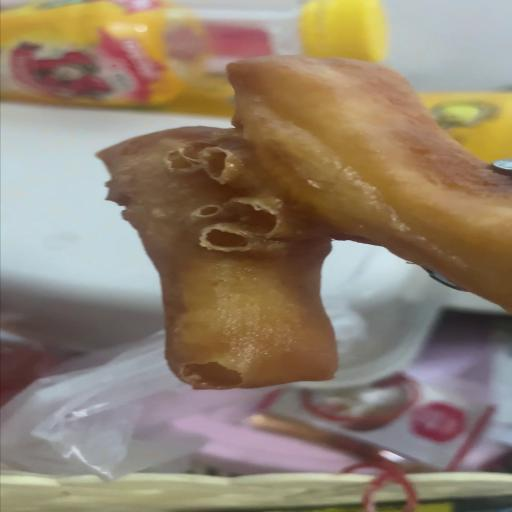street_burnt_defect: (98, 54, 512, 390)
